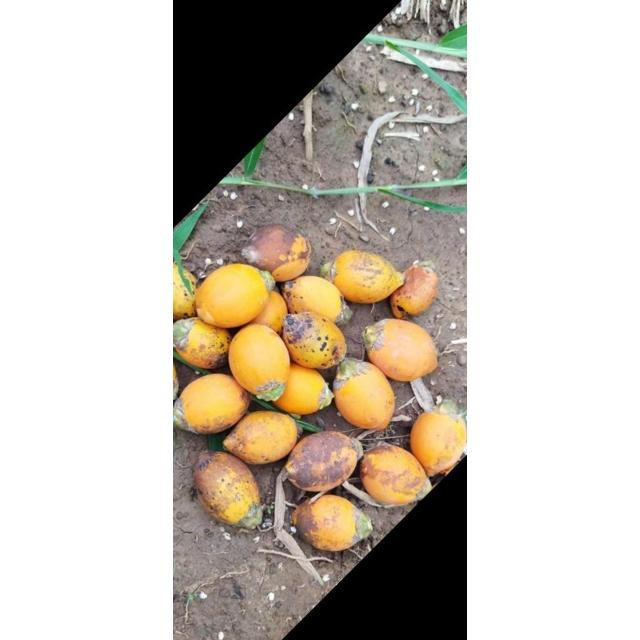good: (192, 451, 262, 527), (227, 324, 291, 398), (362, 320, 438, 382), (286, 431, 360, 492), (290, 494, 370, 550), (176, 374, 250, 434), (223, 411, 299, 465), (200, 265, 266, 327), (359, 446, 429, 504), (330, 250, 404, 304), (242, 225, 312, 281), (410, 410, 466, 476), (282, 312, 346, 368), (174, 316, 232, 369), (337, 367, 389, 425), (282, 276, 344, 324), (270, 364, 328, 414), (390, 262, 438, 318), (174, 264, 198, 318)
